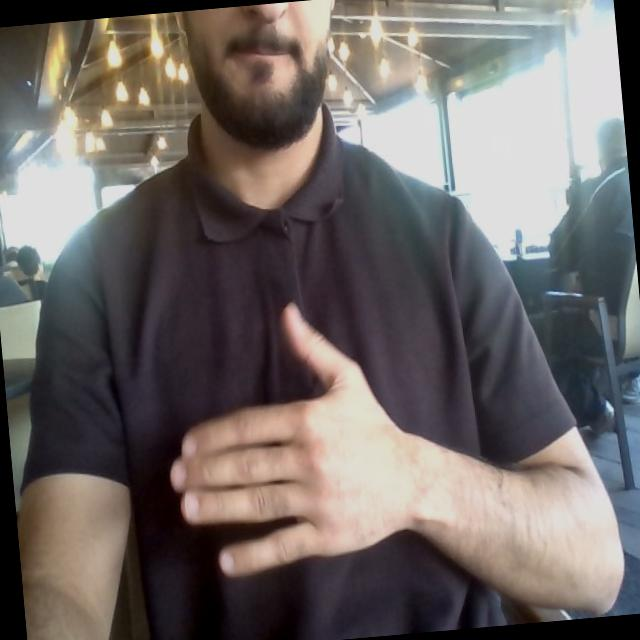Hand: (171, 305, 418, 575)
